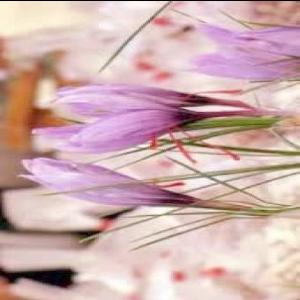Saffron: (20, 157, 206, 208), (34, 102, 204, 149), (54, 83, 210, 109)
